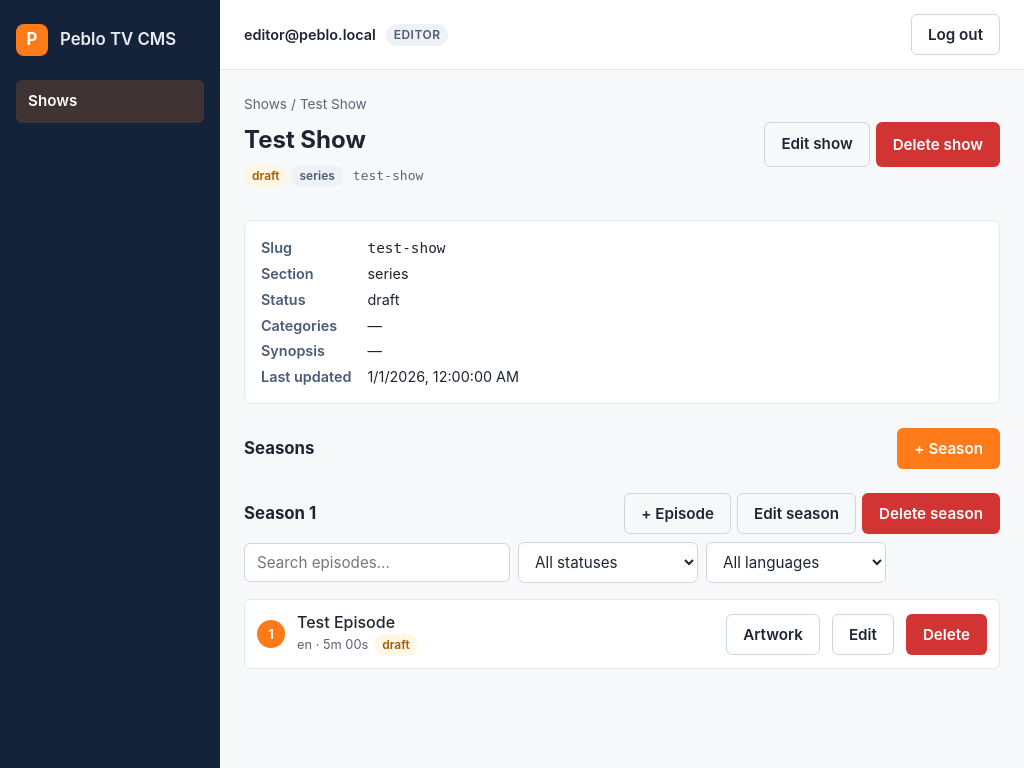
Test case: EpisodeArtworkPanel › renders three slots labeled poster/banner/thumbnail with their specs
This screenshot has width=1024, height=768.
Click the button "Artwork". click: (773, 634)
box: [726,614,820,655]
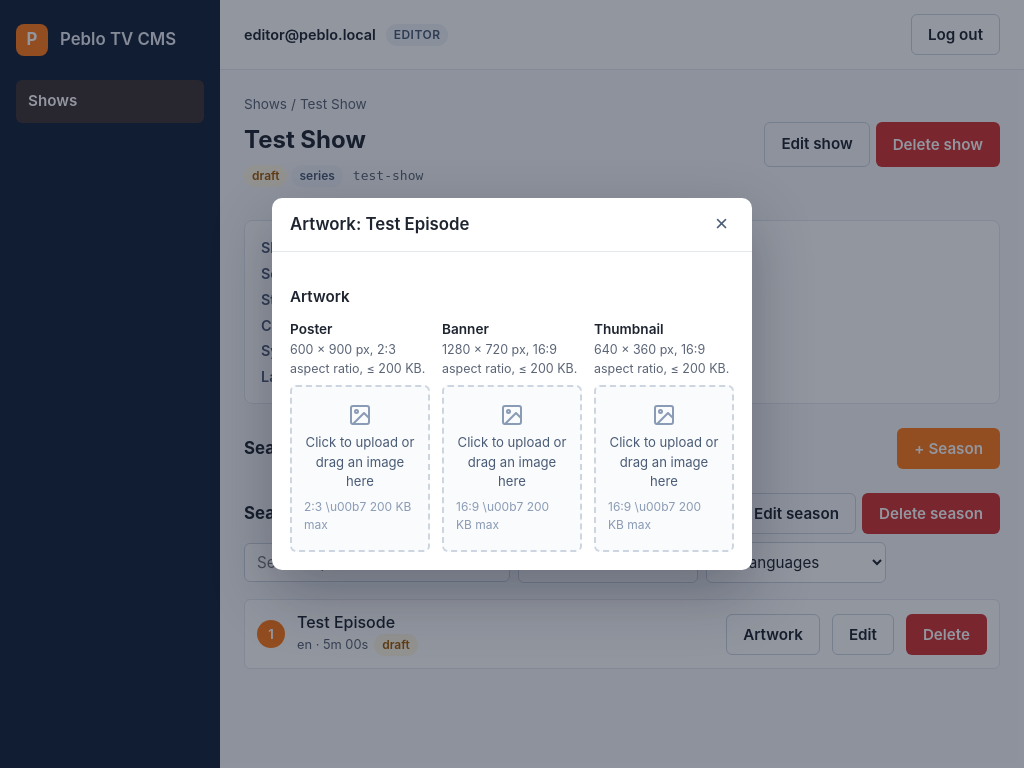
Result: the element with test id "artwork-panel" is shown at [290,286,734,552]
Result: the file field "Poster" is shown at [290,321,332,337]
Result: the file field "Banner" is shown at [442,321,489,337]
